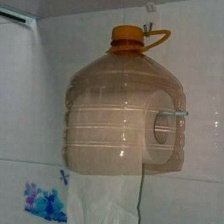bottle: (58, 21, 190, 177)
tissue: (64, 93, 144, 224), (64, 85, 180, 167)
